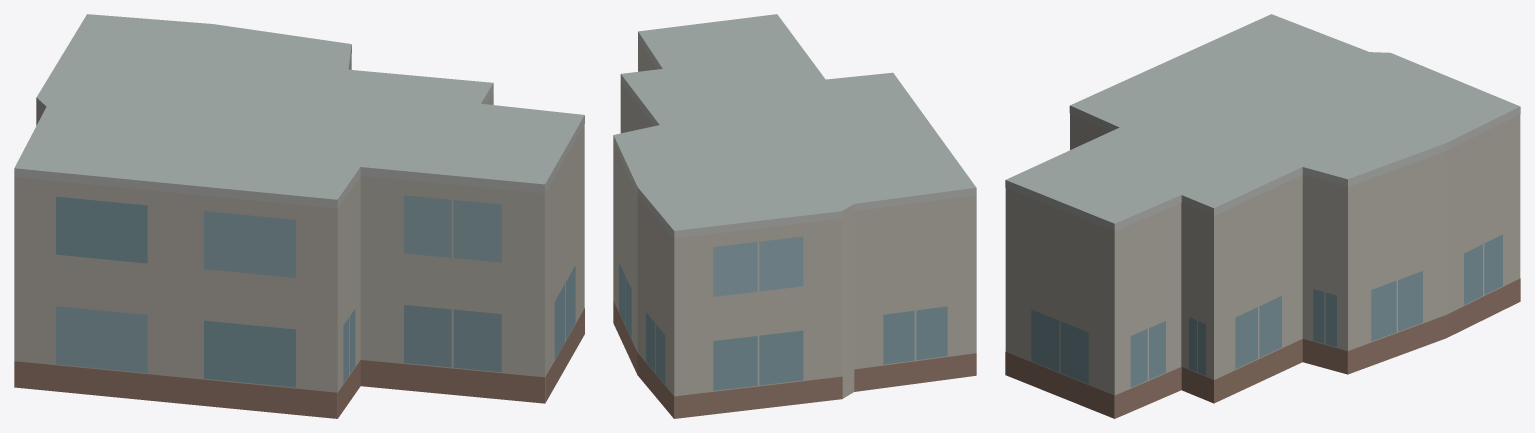
File: survey-upis-32721513.glb
The picture shows the model from 3 angles, left to right: view 1: azimuth 30°, elevation 25°; view 2: azimuth 150°, elevation 25°; view 3: azimuth 270°, elevation 25°; orthographic projection. The views are drawn at different scales.
Parts seen in each view (by area): view 1: survey-upis-32721513.tmp; view 2: survey-upis-32721513.tmp; view 3: survey-upis-32721513.tmp.
Boxes of the visible parts, bbox=[...] form: survey-upis-32721513.tmp: bbox=[14, 14, 584, 418]; survey-upis-32721513.tmp: bbox=[613, 14, 976, 418]; survey-upis-32721513.tmp: bbox=[1005, 14, 1520, 418].
Bounding box in the file's own units: 14.07 × 6.1 × 14.6.
